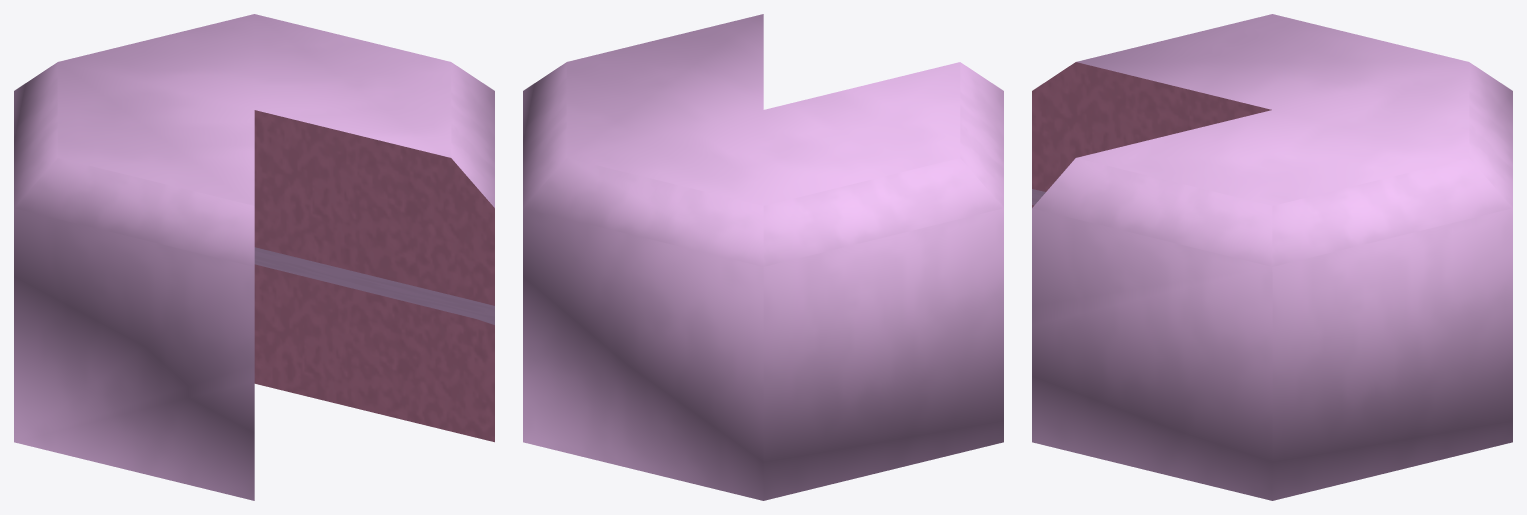
File: Cake_Sliced_E.FBX
The picture shows the model from 3 angles, left to right: view 1: azimuth 30°, elevation 25°; view 2: azimuth 150°, elevation 25°; view 3: azimuth 270°, elevation 25°; orthographic projection.
Parts seen in each view (by area): view 1: Cake_E; view 2: Cake_E; view 3: Cake_E.
Part boxes in pixels (x1=…): Cake_E: x1=14, y1=14, x2=494, y2=500; Cake_E: x1=523, y1=14, x2=1003, y2=500; Cake_E: x1=1032, y1=14, x2=1512, y2=500.
Size of the model in its own units: 102 by 55.58 by 88.51.
